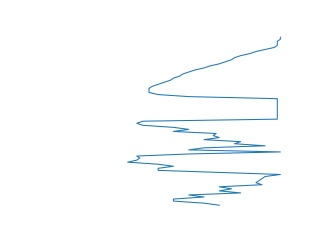floodPlain: (127, 162, 284, 206)
floodSwamp: (126, 122, 283, 163)
meanderPointBar: (146, 35, 284, 114)
